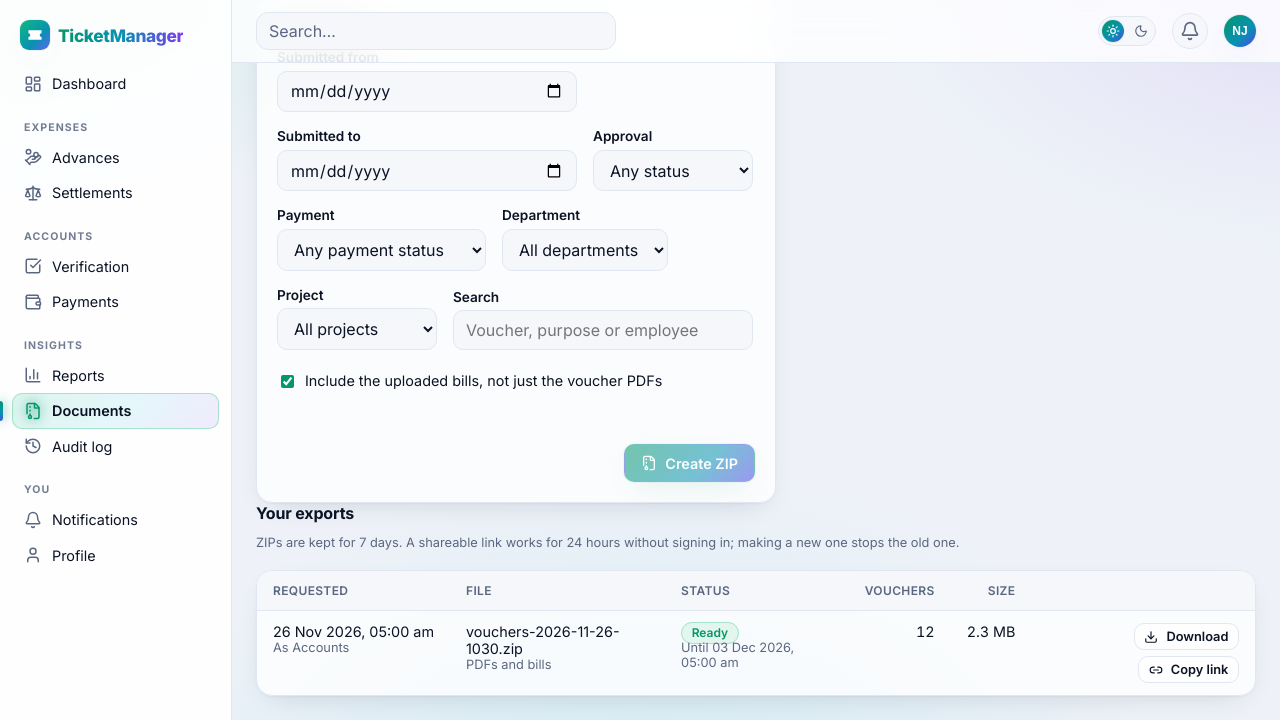
Test: Document centre › makes a shareable link for a ready export
(page scrolled)
Expected: the text "Ready" is shown, [681,622,739,644]
Click the button with aria-label "Copy a download link". click: (1189, 670)
box: [1138,656,1239,683]
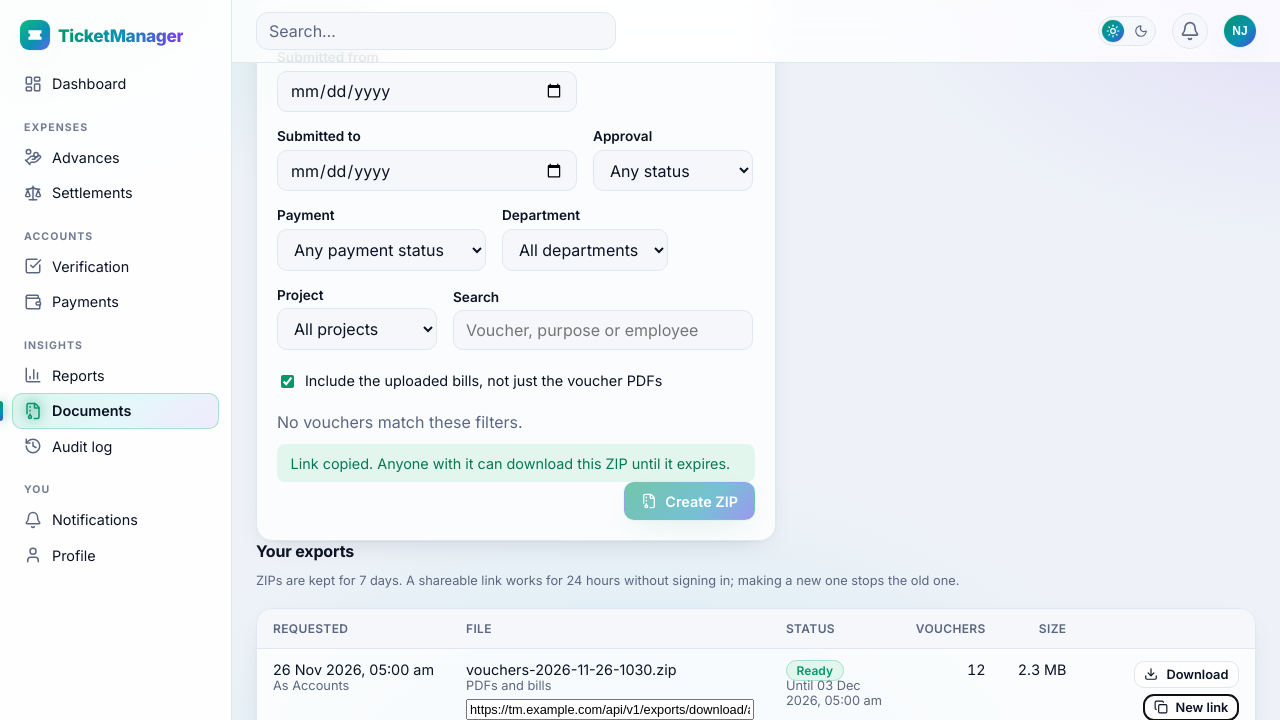
Expected: the field named "Download link" holds "https://tm.example.com/api/v1/exports/download/abc", [466,700,754,719]
